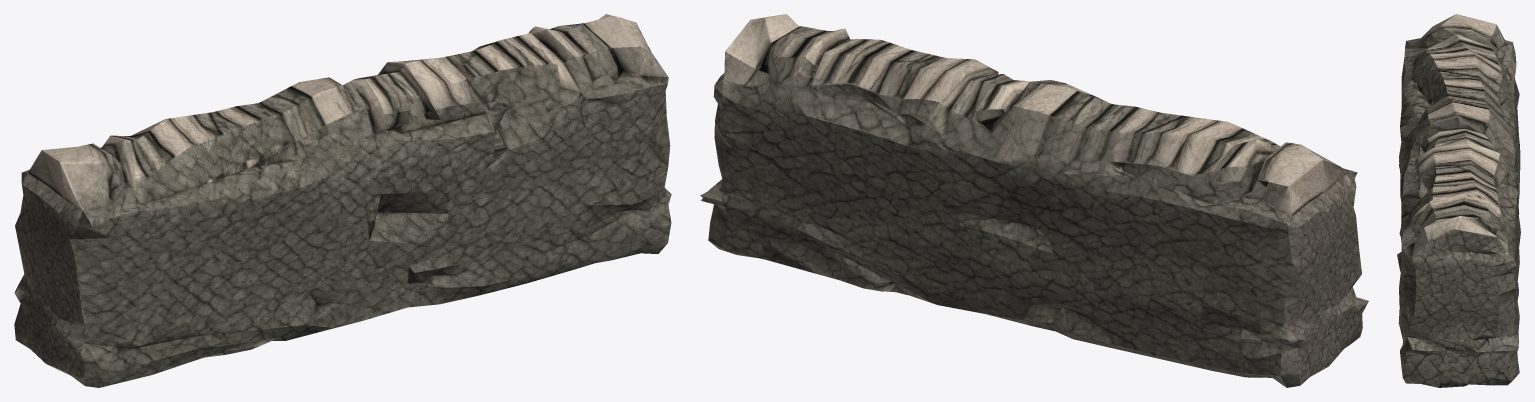
File: ok-fence-stonewall-meshy.glb
The picture shows the model from 3 angles, left to right: view 1: azimuth 30°, elevation 25°; view 2: azimuth 150°, elevation 25°; view 3: azimuth 270°, elevation 25°; orthographic projection. The views are drawn at different scales.
Bounding box in the file's own units: 1.89 × 0.6481 × 0.4417.
Materials: 1 (1 with a texture image).
